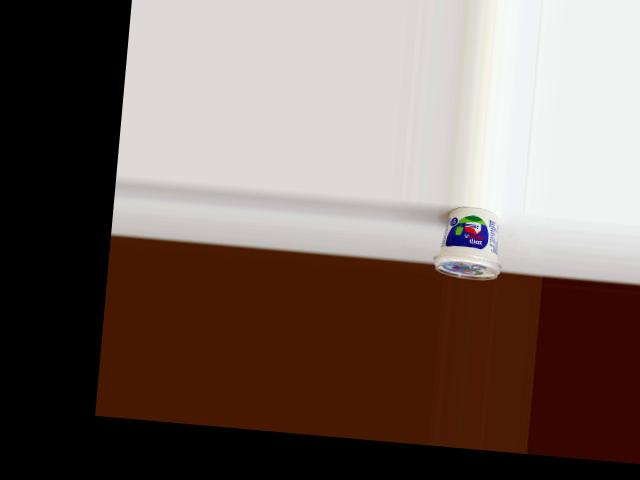cotage: (433, 204, 508, 282)
